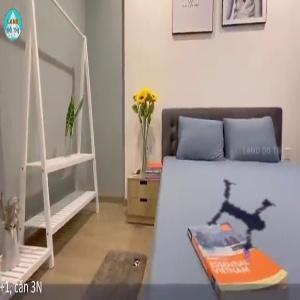drone: (205, 173, 300, 268)
